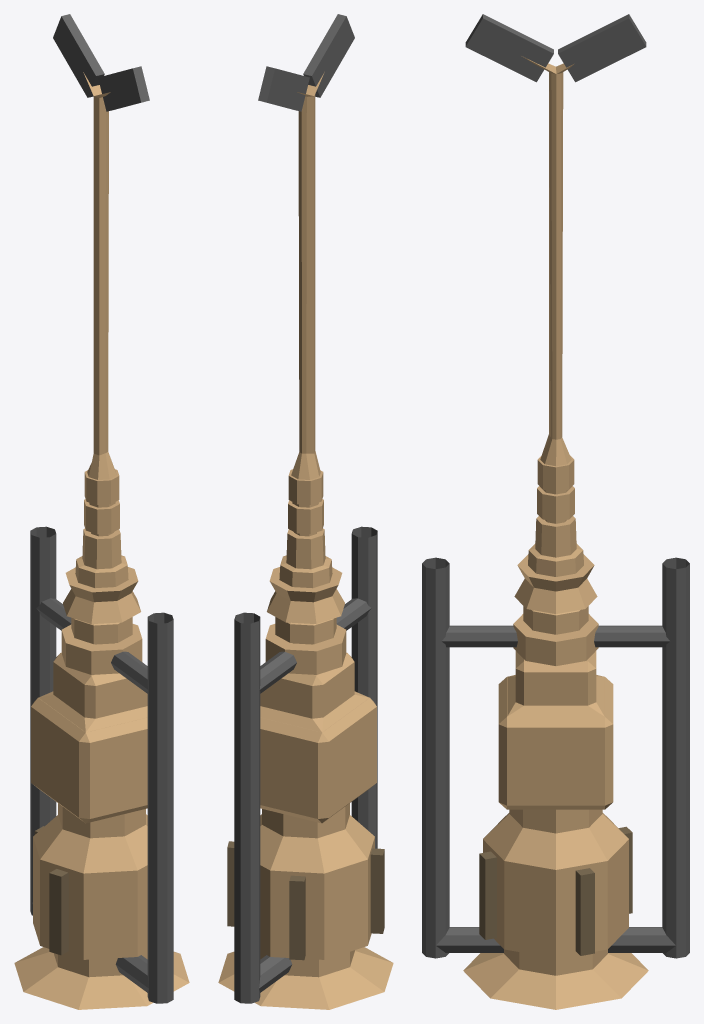
Rendered from antenna3.fbx.
The picture shows the model from 3 angles, left to right: view 1: azimuth 30°, elevation 25°; view 2: azimuth 150°, elevation 25°; view 3: azimuth 270°, elevation 25°; orthographic projection. The views are drawn at different scales.
Visible parts, largest first — view 1: Circle, Circle.003, Circle.001, Cube, Plane.001, Cube.001; view 2: Circle, Circle.003, Circle.001, Cube, Plane.001, Cube.001; view 3: Circle.003, Circle, Circle.001, Cube, Plane.001, Cube.001.
Part boxes in pixels (x1=…): Circle: x1=14, y1=803, x2=189, y2=1009; Circle.003: x1=30, y1=526, x2=173, y2=1003; Circle.001: x1=61, y1=72, x2=142, y2=674; Cube: x1=31, y1=652, x2=147, y2=823; Plane.001: x1=53, y1=14, x2=149, y2=111; Cube.001: x1=34, y1=826, x2=68, y2=955; Circle: x1=218, y1=803, x2=393, y2=1009; Circle.003: x1=234, y1=526, x2=377, y2=1003; Circle.001: x1=265, y1=72, x2=346, y2=674; Cube: x1=260, y1=652, x2=376, y2=823; Plane.001: x1=258, y1=14, x2=354, y2=111; Cube.001: x1=227, y1=841, x2=384, y2=960; Circle.003: x1=422, y1=557, x2=689, y2=958; Circle: x1=463, y1=809, x2=648, y2=1009; Circle.001: x1=513, y1=56, x2=598, y2=665; Cube: x1=498, y1=651, x2=613, y2=809; Plane.001: x1=465, y1=14, x2=646, y2=82; Cube.001: x1=479, y1=826, x2=632, y2=955.
Size of the model in its own units: 91.08 by 516 by 131.
